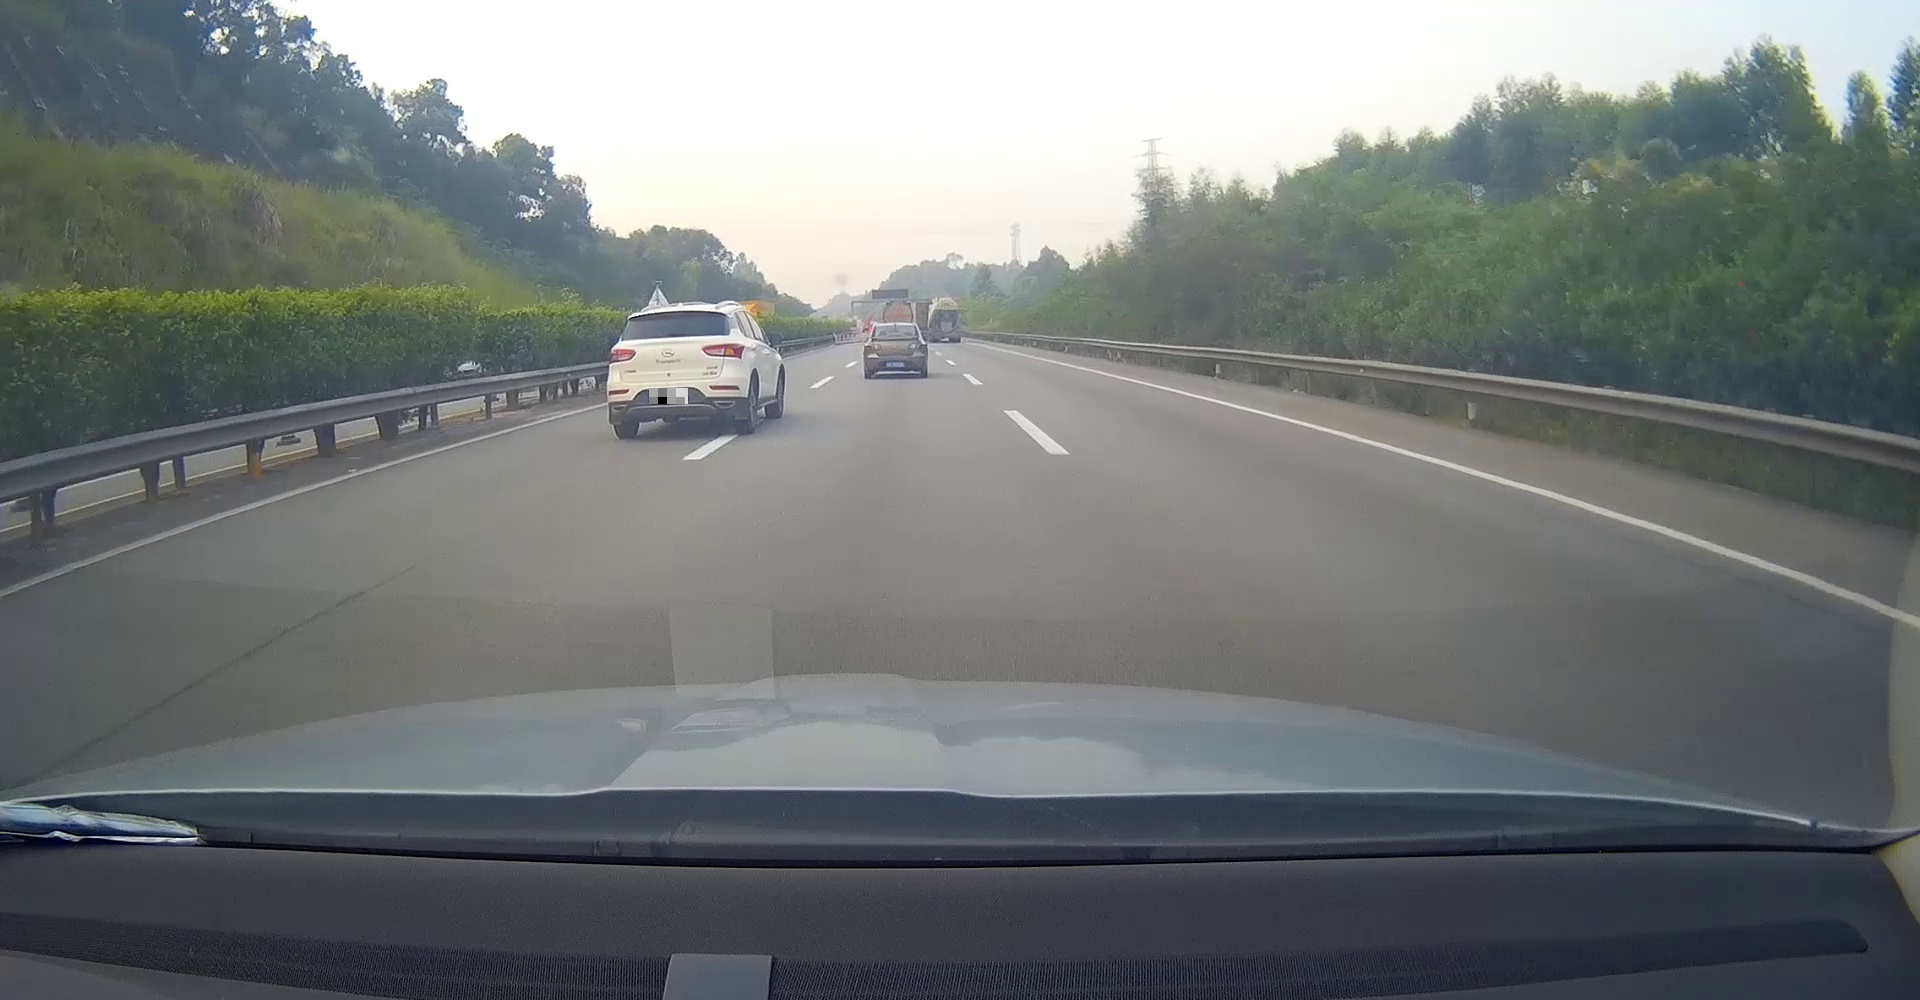L_light: (610, 348, 637, 364), (866, 344, 881, 352)
R_light: (701, 341, 745, 360), (908, 343, 924, 352)
T_light: (660, 312, 681, 317), (889, 326, 900, 330)
day-no: (607, 305, 747, 440), (863, 322, 928, 379)
plate_1: (649, 388, 688, 404)
